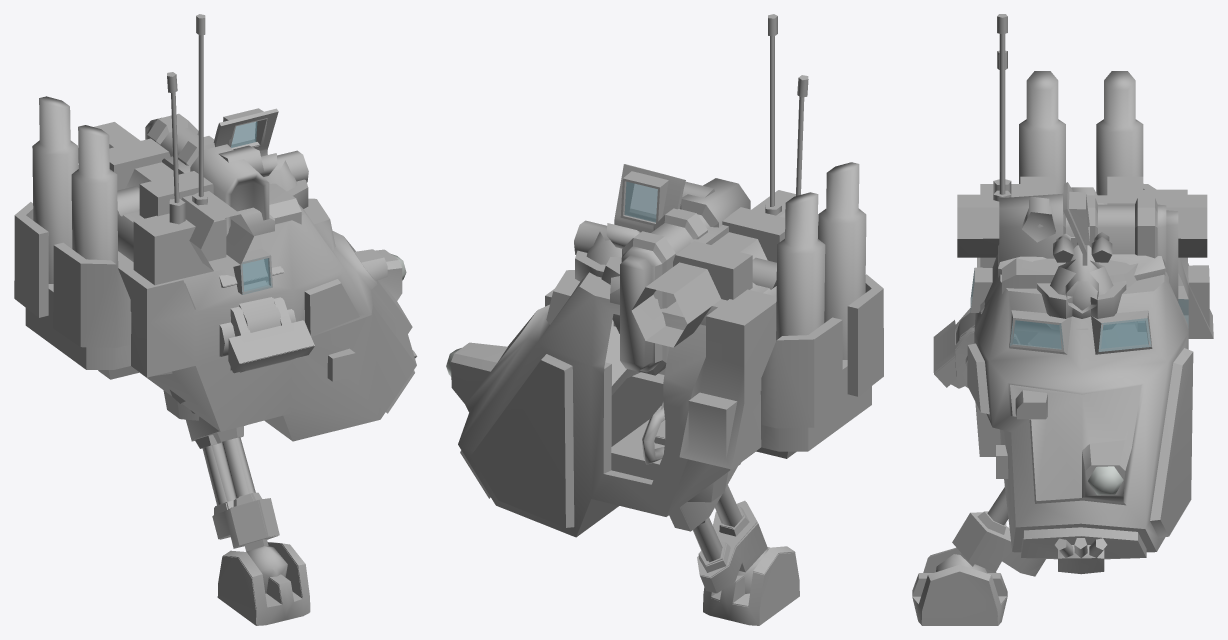
File: sentinel_multilaser_rocket-0u8oarb.glb
3 renders of one model, left to right at view 1: azimuth 30°, elevation 25°; view 2: azimuth 150°, elevation 25°; view 3: azimuth 270°, elevation 25°, orthographic. The views are drawn at different scales.
Parts seen in each view (by area): view 1: turret, turret_interior, body, gun1, legr3, legl2, legl3, legl4, legr4, door, legl1, gun (+2 smaller); view 2: turret, turret_interior, body, gun1, legr3, legr4, door, legl3, gun, legl4; view 3: turret, turret_interior, body, gun1, legl4, legl3, gun_rot_melta, door, gun, legr2, legl2, legr4.
Part boxes in pixels (x1,y1,x2,y2): turret: [14, 14, 417, 441]; turret_interior: [14, 97, 415, 440]; body: [78, 122, 308, 271]; gun1: [145, 113, 269, 281]; legr3: [191, 425, 278, 593]; legl2: [170, 297, 313, 413]; legl3: [186, 416, 287, 577]; legl4: [223, 542, 310, 625]; legr4: [217, 543, 309, 625]; door: [213, 108, 278, 156]; legl1: [219, 259, 282, 332]; gun: [117, 150, 308, 216]; turret: [446, 14, 883, 537]; turret_interior: [451, 163, 883, 537]; body: [575, 190, 818, 347]; gun1: [620, 178, 750, 375]; legr3: [642, 419, 767, 593]; legr4: [703, 552, 799, 625]; door: [613, 164, 685, 326]; legl3: [642, 408, 768, 577]; gun: [574, 220, 776, 289]; legl4: [703, 546, 799, 607]; turret: [967, 14, 1213, 574]; turret_interior: [967, 71, 1213, 558]; body: [957, 176, 1207, 329]; gun1: [999, 193, 1178, 334]; legl4: [912, 547, 1006, 625]; legl3: [936, 487, 1045, 573]; gun_rot_melta: [1002, 258, 1065, 293]; door: [1063, 182, 1089, 265]; gun: [1065, 187, 1098, 329]; legr2: [934, 321, 1029, 388]; legl2: [933, 308, 1031, 373]; legr4: [921, 572, 1007, 625].
Bounding box in the file's own units: 46.98 × 70.9 × 33.56.
